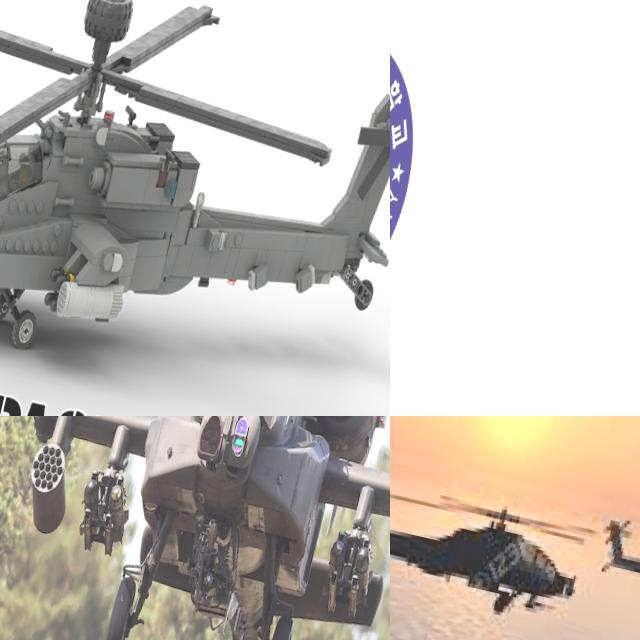Apache: (0, 0, 390, 416), (0, 416, 390, 640), (390, 435, 599, 637), (592, 502, 640, 624)
KAU_Marker: (390, 11, 439, 333)
